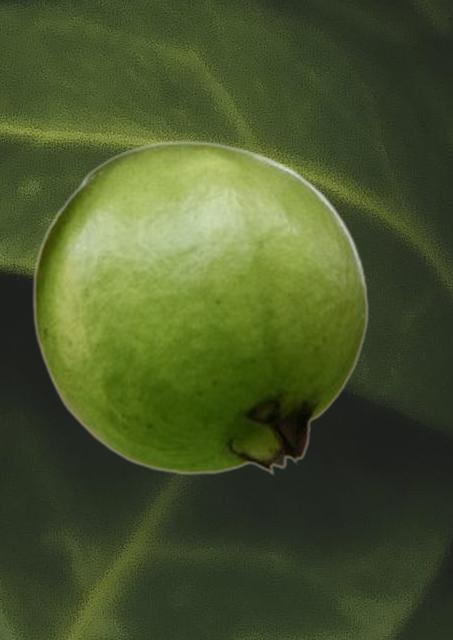guava: (31, 140, 368, 475)
